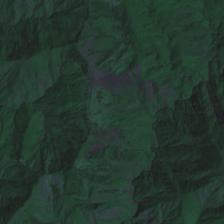landslides: (123, 134, 140, 142), (117, 134, 127, 144)
